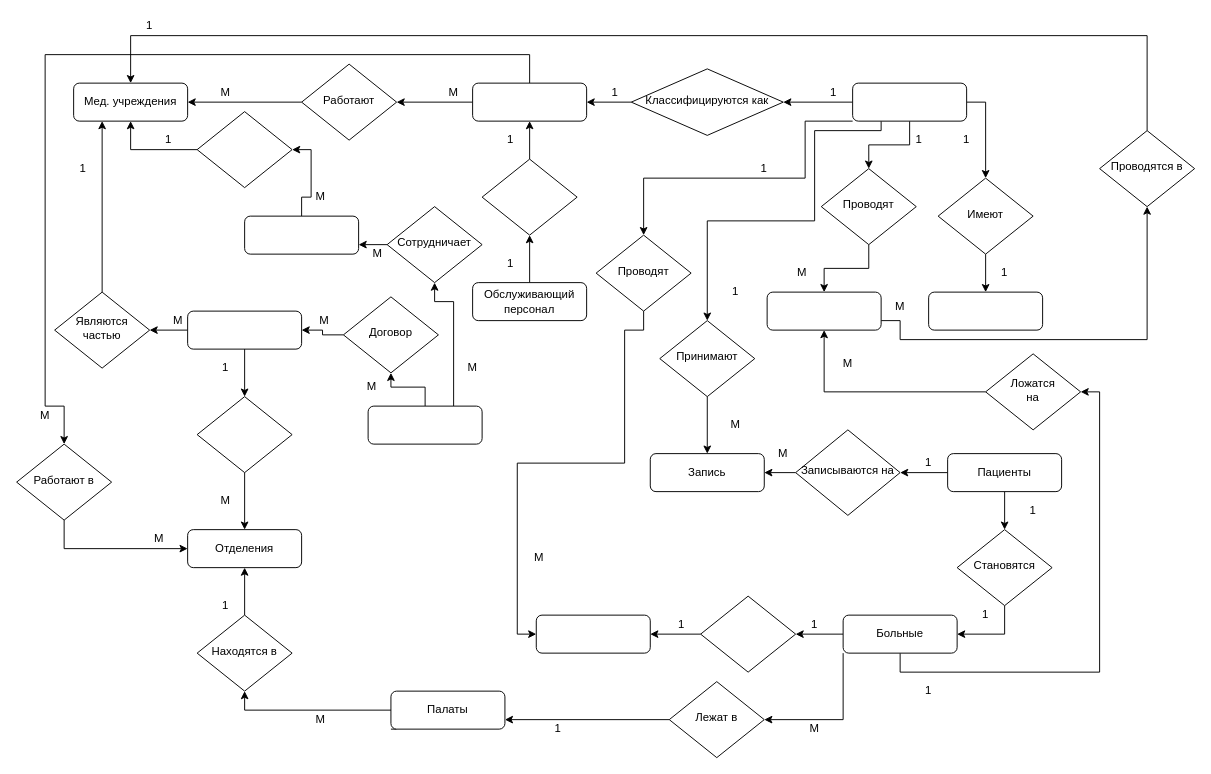
Image size: 1211x774. Some labels were removed from this diagram. The shapes that lost their labels are listed below. From the top down, each one's box as (x1, y1, x2, y2) in pixels, then its label:
(472, 82, 587, 121): Сотрудники
(852, 82, 967, 121): Врачи
(196, 111, 292, 188): Входит
(481, 158, 577, 235): Является
(244, 215, 359, 254): Поликлиники
(187, 310, 302, 349): Больницы
(766, 291, 881, 330): Операции
(928, 291, 1043, 330): Категории
(196, 396, 292, 473): Делятся на
(367, 405, 482, 444): Лаборатория
(535, 614, 650, 653): Лечение
(700, 595, 796, 672): Начинают
